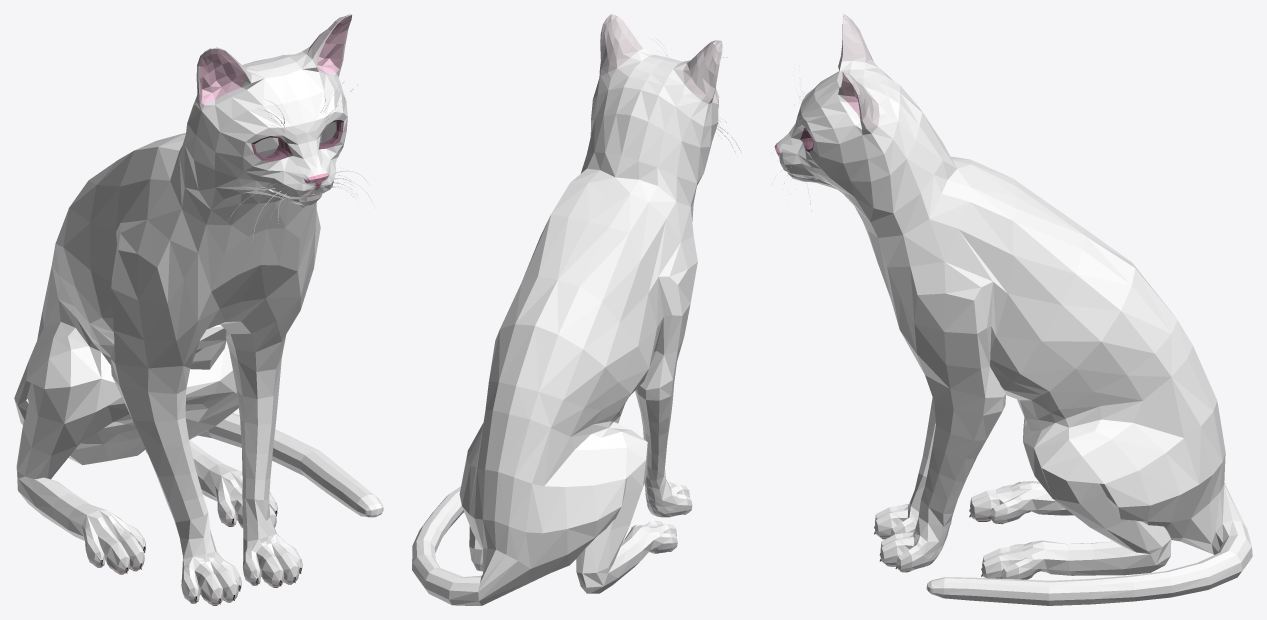
File: Pet_sit_00.glb
3 renders of one model, left to right at view 1: azimuth 30°, elevation 25°; view 2: azimuth 150°, elevation 25°; view 3: azimuth 270°, elevation 25°, orthographic. The views are drawn at different scales.
Parts seen in each view (by area): view 1: Pet_sit_00; view 2: Pet_sit_00; view 3: Pet_sit_00.
Part boxes in pixels (left/top/right/bottom): Pet_sit_00: left=14, top=14, right=383, bottom=605; Pet_sit_00: left=412, top=14, right=740, bottom=605; Pet_sit_00: left=771, top=14, right=1252, bottom=605.
Bounding box in the file's own units: 0.2097 × 0.4313 × 0.3722.
1 material, 1 textured.
